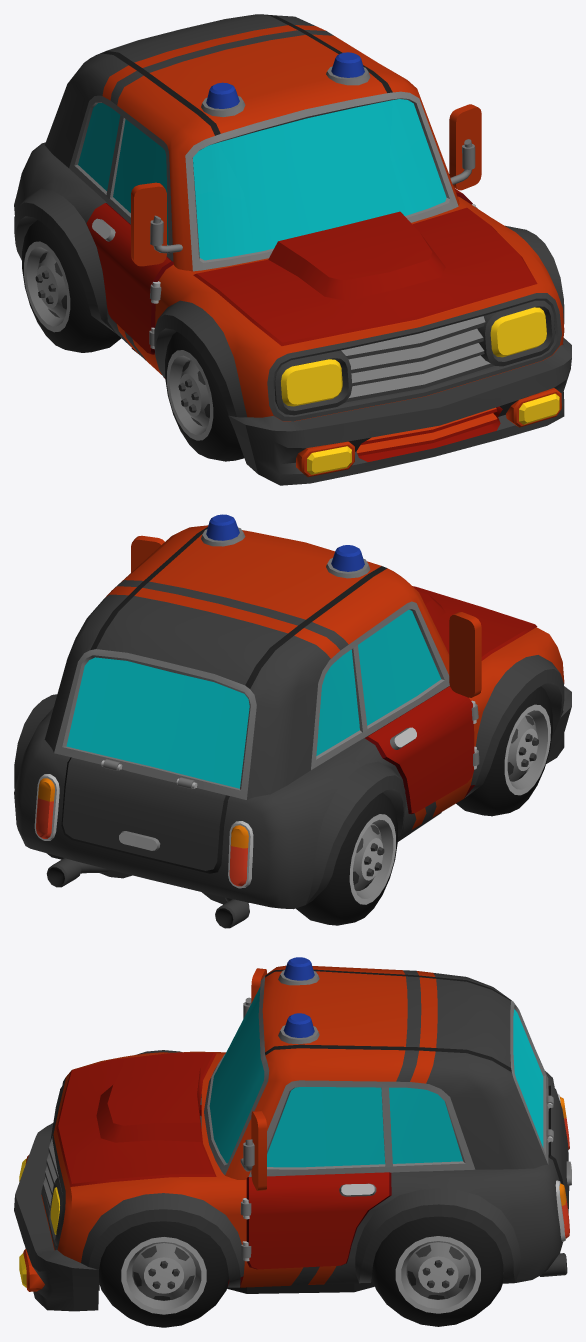
Rendered from VEH7-A.fbx.
3 renders of one model, top to bottom at view 1: azimuth 30°, elevation 25°; view 2: azimuth 150°, elevation 25°; view 3: azimuth 270°, elevation 25°, orthographic. The views are drawn at different scales.
Parts seen in each view (by area): view 1: VEH7_A, V7A_Wheel_BR, V7A_Wheel_FR; view 2: VEH7_A, V7A_Wheel_BR, V7A_Wheel_FR; view 3: VEH7_A, V7A_Wheel_BL, V7A_Wheel_FL.
Part boxes in pixels (box(x1,y1,x2,y2)): VEH7_A: box(14, 14, 571, 485); V7A_Wheel_BR: box(22, 220, 121, 352); V7A_Wheel_FR: box(165, 331, 244, 461); VEH7_A: box(14, 514, 571, 928); V7A_Wheel_BR: box(296, 792, 397, 925); V7A_Wheel_FR: box(456, 686, 552, 816); VEH7_A: box(14, 957, 571, 1311); V7A_Wheel_BL: box(372, 1216, 503, 1326); V7A_Wheel_FL: box(99, 1221, 228, 1327).
Bounding box in the file's own units: 248 × 199 × 365.
1 material, 1 textured.
